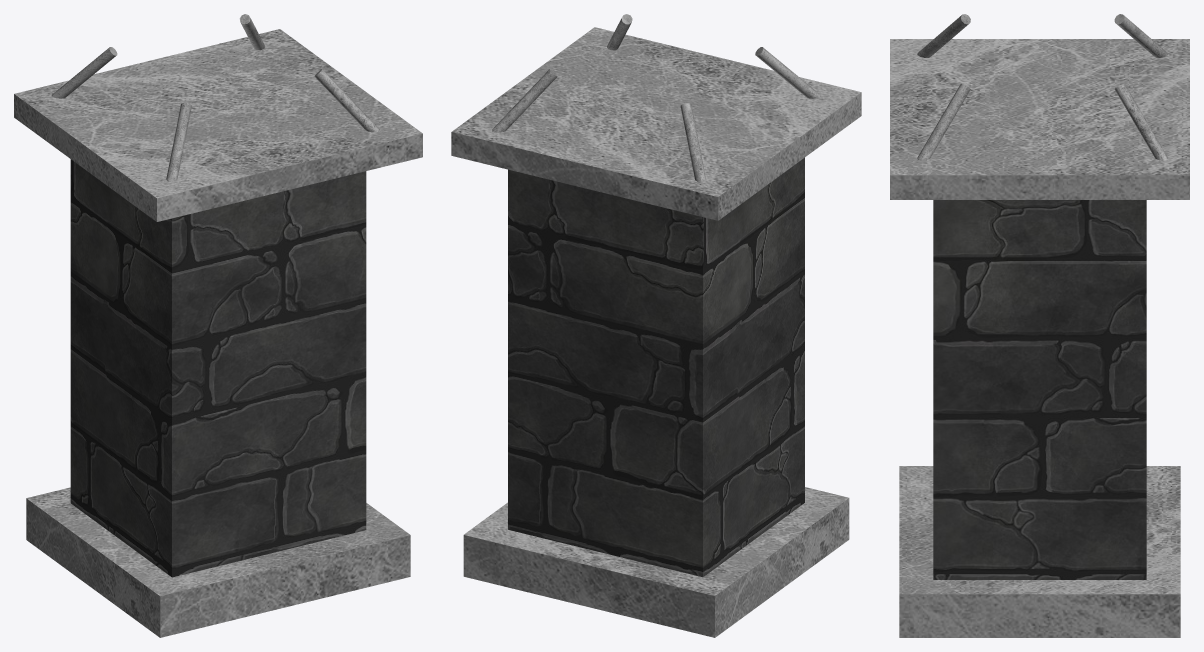
Rendered from czara.FBX.
The picture shows the model from 3 angles, left to right: view 1: azimuth 30°, elevation 25°; view 2: azimuth 150°, elevation 25°; view 3: azimuth 270°, elevation 25°; orthographic projection. The views are drawn at different scales.
Parts seen in each view (by area): view 1: czaraStojak; view 2: czaraStojak; view 3: czaraStojak.
Boxes of the visible parts, left/top/right/bottom form: czaraStojak: left=14, top=14, right=422, bottom=637; czaraStojak: left=451, top=14, right=861, bottom=637; czaraStojak: left=890, top=14, right=1189, bottom=637.
Bounding box in the file's own units: 27.74 × 49.74 × 25.8.
Materials: 1 (1 with a texture image).
